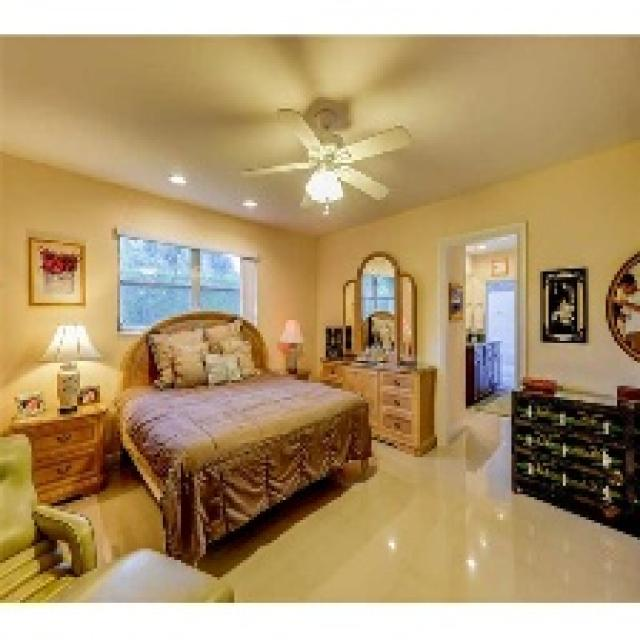Bed: (111, 308, 372, 566)
